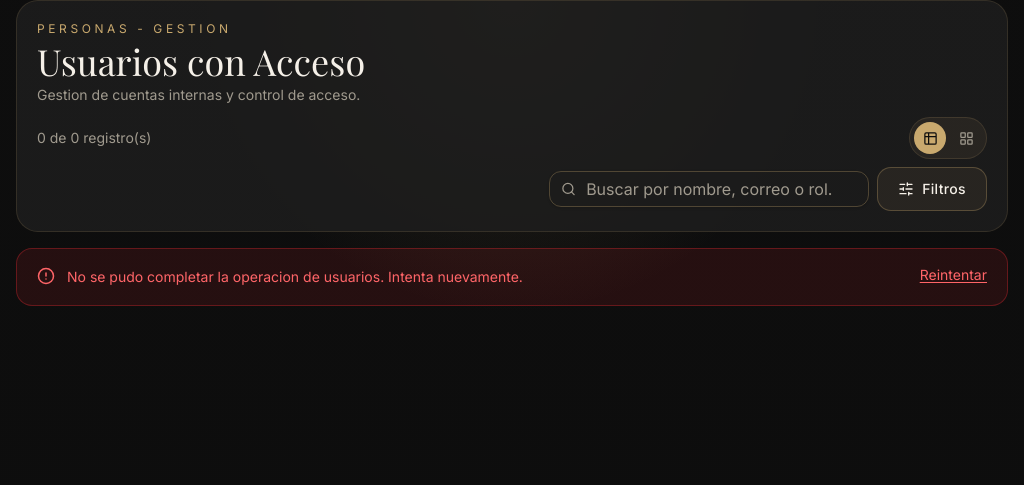
lista vacía y reintento después de error no exponen mensaje técnico
What coordinates should you click on to do the following:
click the button "Reintentar"
I would click on:
 (953, 275)
Its box is x1=920 y1=265 x2=987 y2=285.
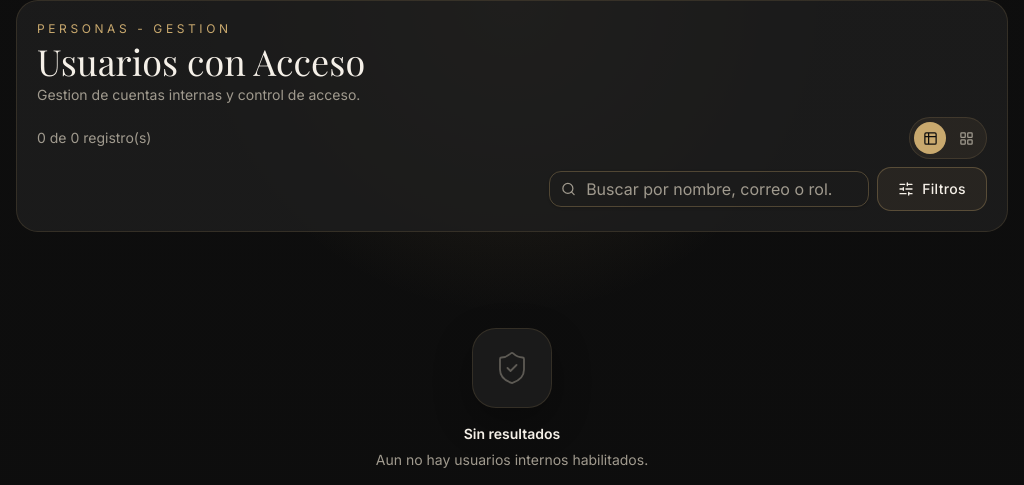
Expected: the text "Sin resultados" is shown, x1=464 y1=425 x2=560 y2=442
